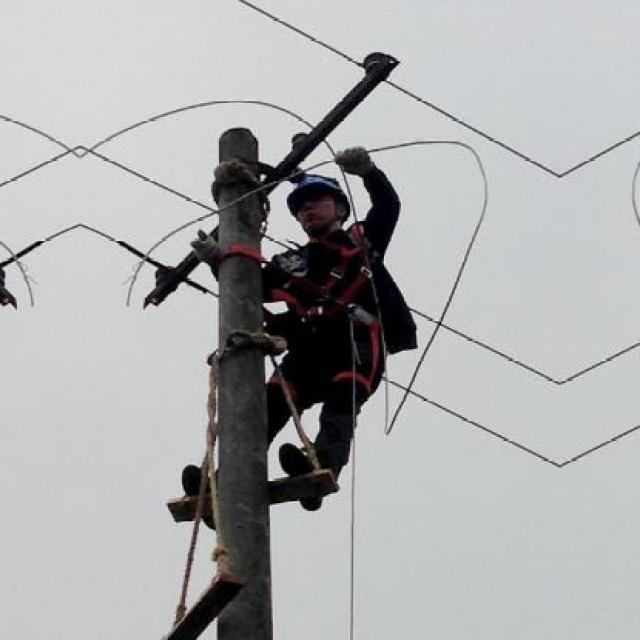helmet: (280, 158, 363, 242)
